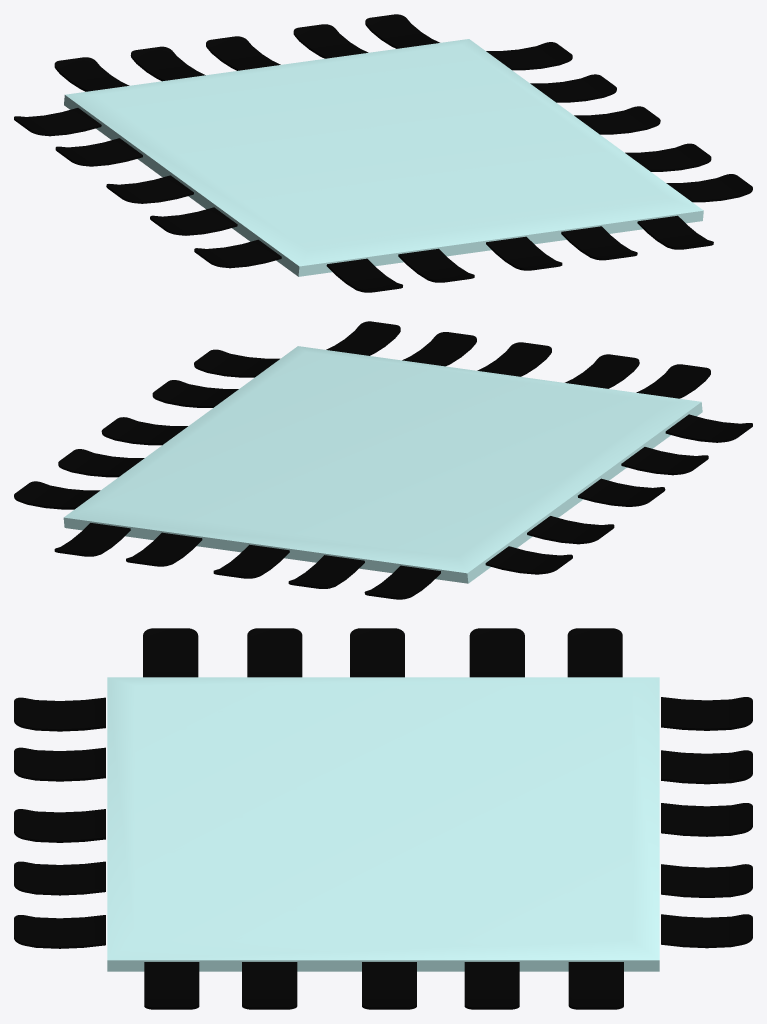
File: ICS.fbx
The picture shows the model from 3 angles, top to bottom: view 1: azimuth 30°, elevation 25°; view 2: azimuth 150°, elevation 25°; view 3: azimuth 270°, elevation 25°; orthographic projection. The views are drawn at different scales.
Visible parts, largest first — view 1: IC_Sides_IC_sides1; view 2: IC_Sides_IC_sides1; view 3: IC_Sides_IC_sides1.
Boxes of the visible parts, x1,y1,x2,y2 form: IC_Sides_IC_sides1: (14, 14, 752, 292); IC_Sides_IC_sides1: (14, 321, 752, 599); IC_Sides_IC_sides1: (14, 628, 752, 1009).
Bounding box in the file's own units: 0.144 × 0.0156 × 0.1443.
